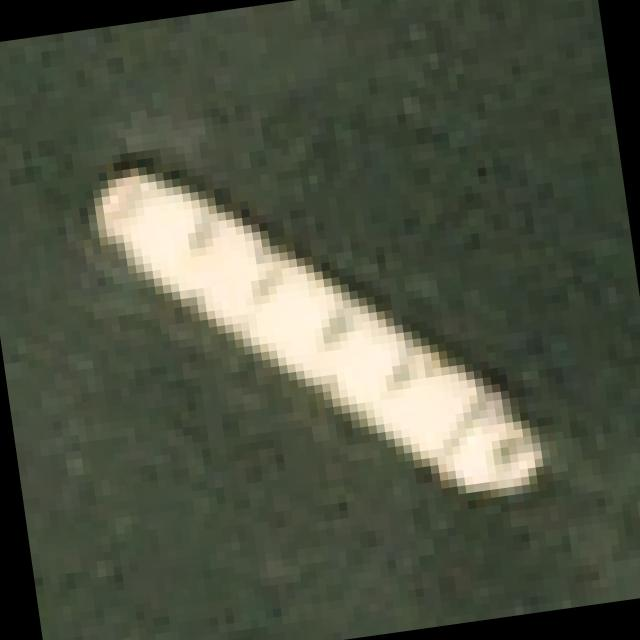ship: (69, 86, 568, 552)
